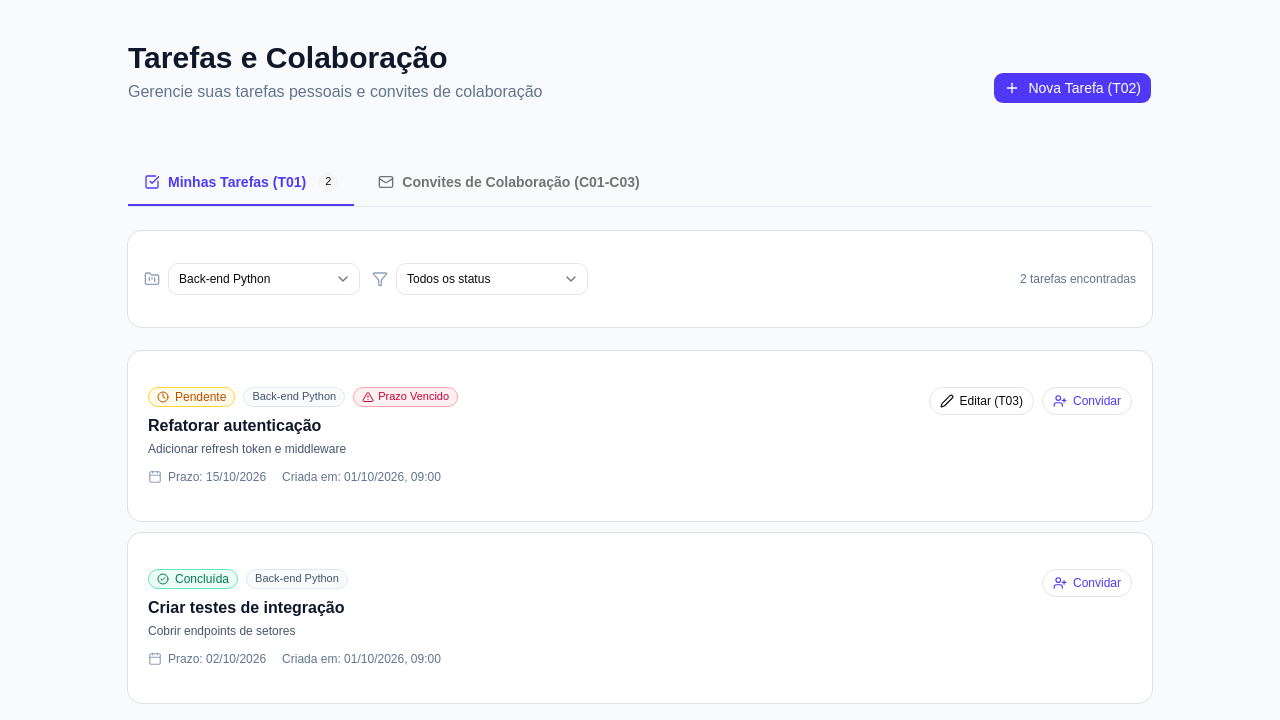
Test case: MyTasks Page › permite abrir modal de edição para tarefa pendente (T03)
Expected: the heading "Refatorar autenticação" is shown, [148,417,321,434]
What coordinates should you click on to do the following:
click the button "Editar (T03)"
I would click on:
 (981, 401)
Its box is [929,387,1034,415].
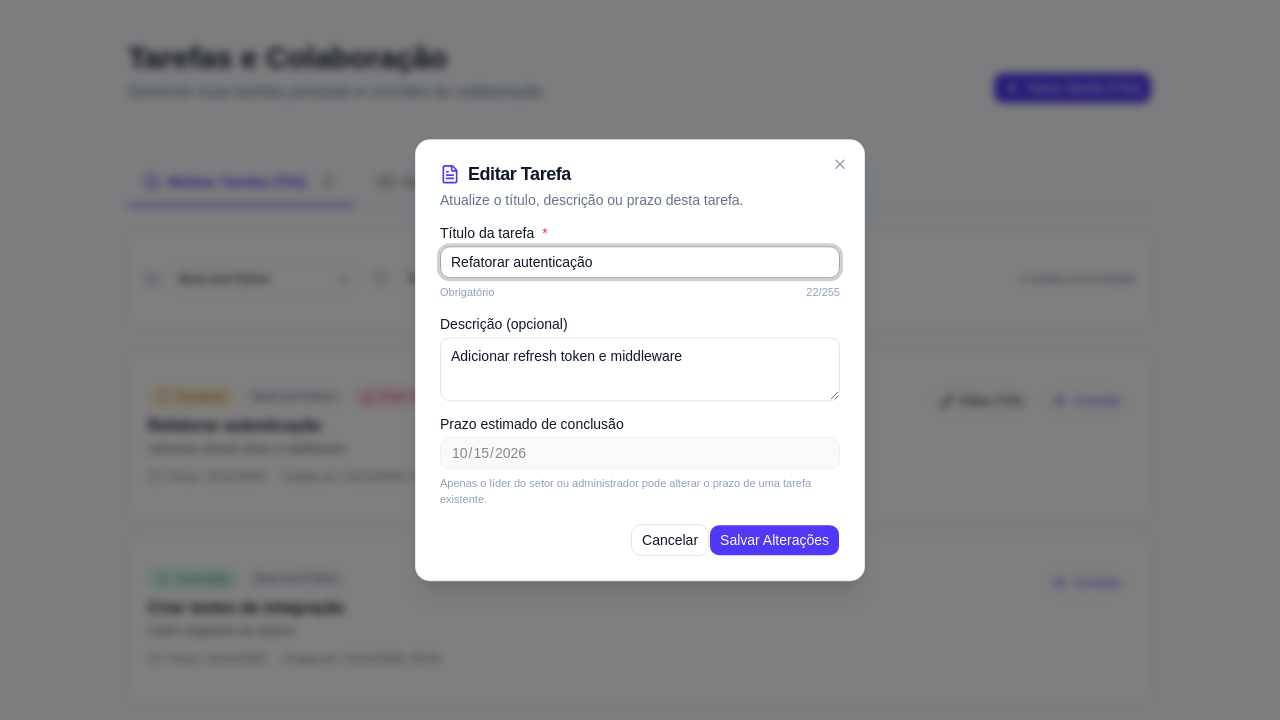
Expected: the heading "Editar Tarefa" is shown, [440,164,571,184]
Expected: the field showing "Refatorar autenticação" is shown, [440,246,840,278]
